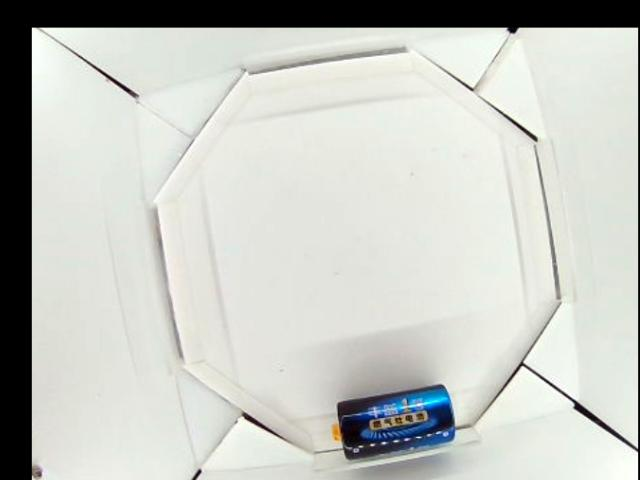Battery: (333, 381, 456, 459)
